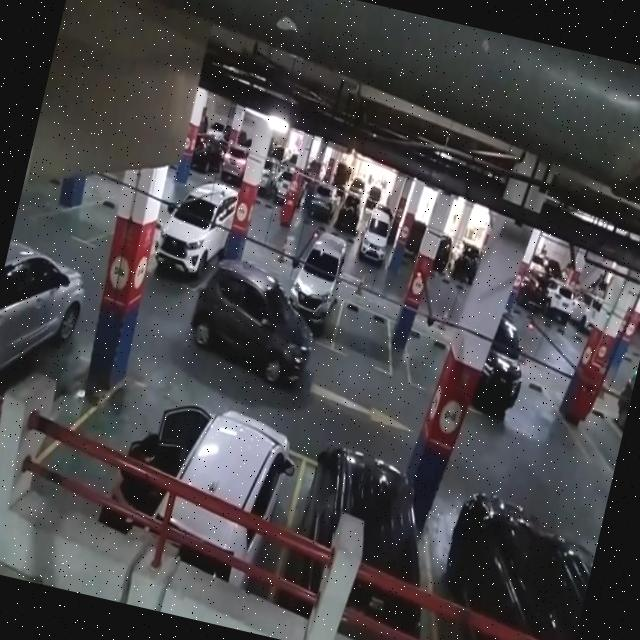empty: (34, 358, 204, 520), (328, 299, 401, 373), (396, 327, 451, 394)
occupied: (267, 456, 449, 640), (164, 405, 312, 580), (146, 191, 231, 295), (279, 243, 353, 349)
